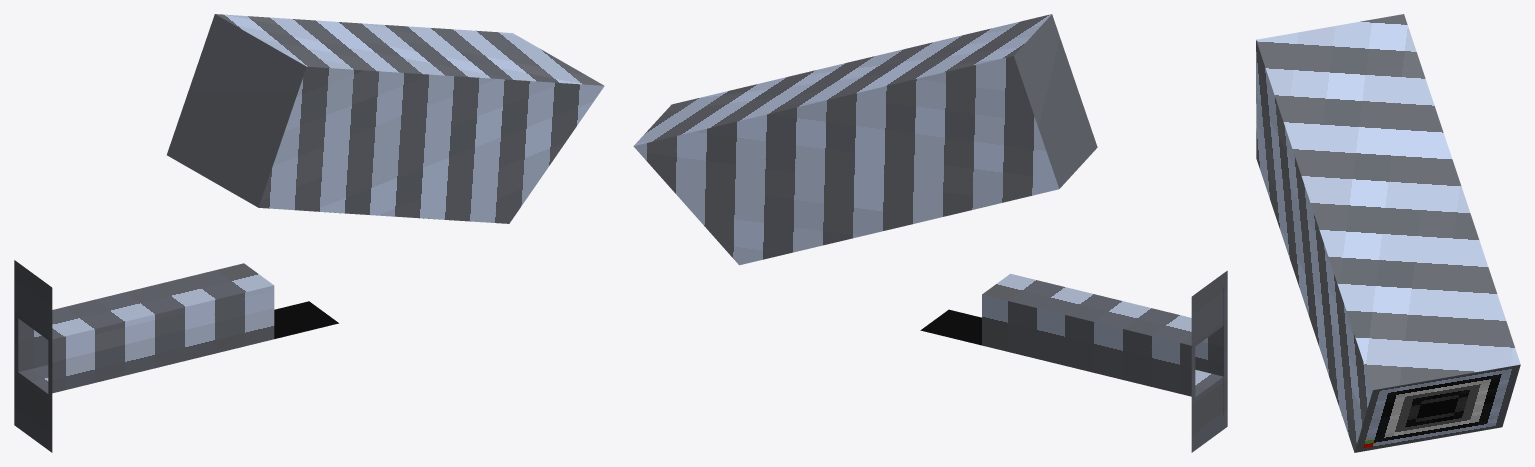
Rendered from blockygon_camera.fbx.
3 views of the same model, side by side, from view 1: azimuth 30°, elevation 25°; view 2: azimuth 150°, elevation 25°; view 3: azimuth 270°, elevation 25° (orthographic). The views are drawn at different scales.
Parts seen in each view (by area): view 1: blockygon_camera; view 2: blockygon_camera; view 3: blockygon_camera.
Boxes of the visible parts, left/top/right/bottom form: blockygon_camera: left=14, top=14, right=604, bottom=452; blockygon_camera: left=633, top=14, right=1227, bottom=452; blockygon_camera: left=1256, top=14, right=1520, bottom=452.
Size of the model in its own units: 58.57 by 36.14 by 21.07.
1 material, 1 textured.
